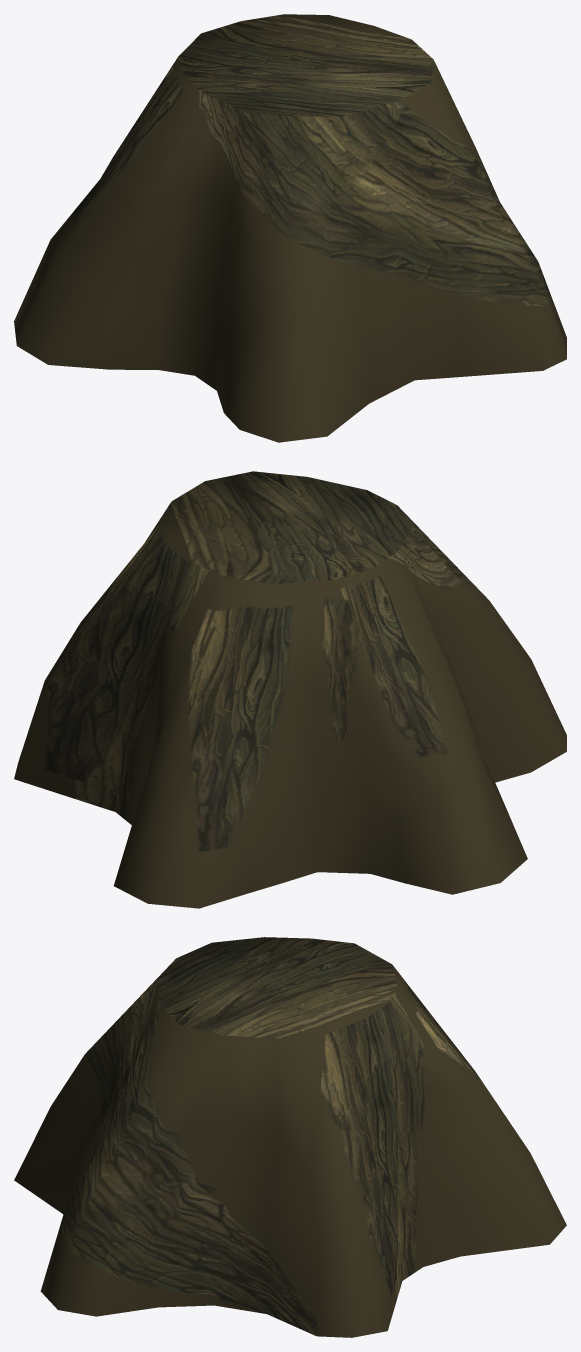
File: trunk2model.fbx
3 renders of one model, top to bottom at view 1: azimuth 30°, elevation 25°; view 2: azimuth 150°, elevation 25°; view 3: azimuth 270°, elevation 25°, orthographic. The views are drawn at different scales.
Visible parts, largest first — view 1: trunk2model; view 2: trunk2model; view 3: trunk2model.
Boxes of the visible parts, box(x1,y1,x2,y2) form: trunk2model: box(14, 14, 566, 442); trunk2model: box(14, 471, 566, 908); trunk2model: box(14, 937, 566, 1337).
Bounding box in the file's own units: 1.3 × 0.6793 × 1.35.
